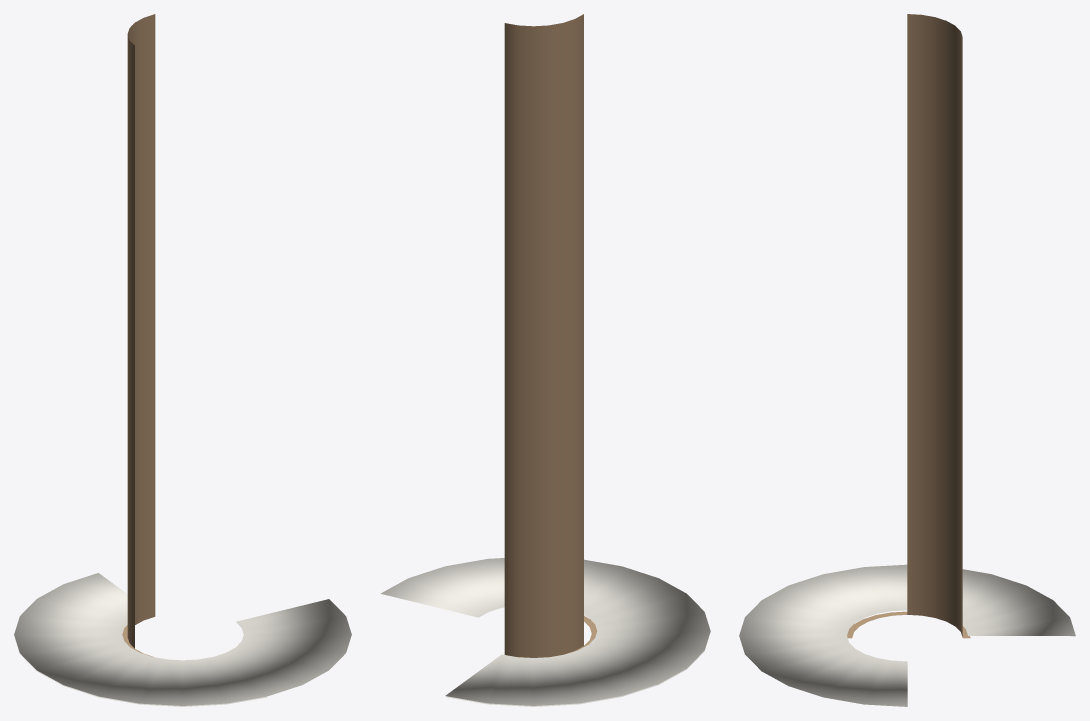
The model's file is 09_paper_towel_roll_v.glb.
3 renders of one model, left to right at view 1: azimuth 30°, elevation 25°; view 2: azimuth 150°, elevation 25°; view 3: azimuth 270°, elevation 25°, orthographic. The views are drawn at different scales.
Parts seen in each view (by area): view 1: cardboard_core_interior; view 2: cardboard_core_interior; view 3: cardboard_core_interior.
Part boxes in pixels (bbox=[...]): cardboard_core_interior: bbox=[14, 14, 351, 706]; cardboard_core_interior: bbox=[380, 14, 710, 706]; cardboard_core_interior: bbox=[739, 14, 1075, 706].
Bounding box in the file's own units: 0.128 × 0.252 × 0.128.
